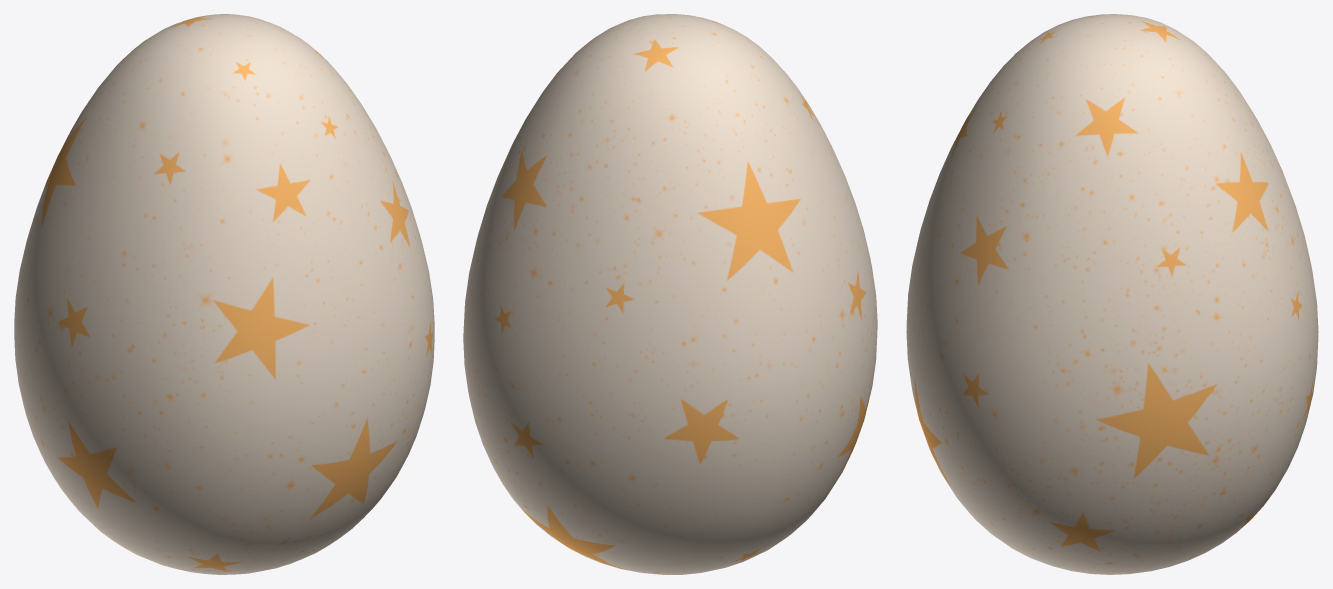
The model's file is Easter_Egg.fbx.
The picture shows the model from 3 angles, left to right: view 1: azimuth 30°, elevation 25°; view 2: azimuth 150°, elevation 25°; view 3: azimuth 270°, elevation 25°; orthographic projection.
Visible parts, largest first — view 1: EasterEgg01; view 2: EasterEgg01; view 3: EasterEgg01.
Part boxes in pixels (<box>): EasterEgg01: <box>14,14,434,574</box>; EasterEgg01: <box>463,14,877,574</box>; EasterEgg01: <box>906,14,1318,574</box>.
Size of the model in its own units: 4.3 by 6.08 by 4.3.
